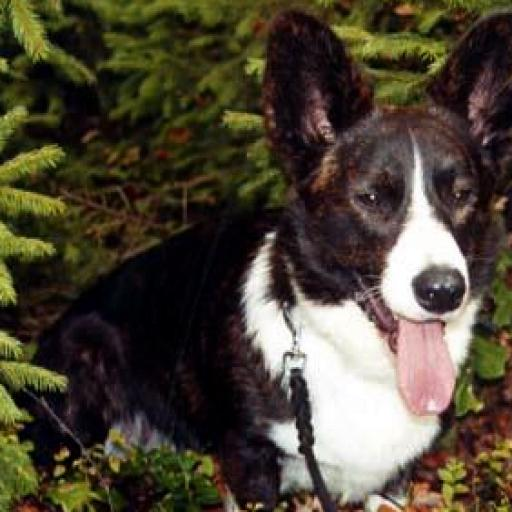dog_face: (265, 2, 512, 365)
